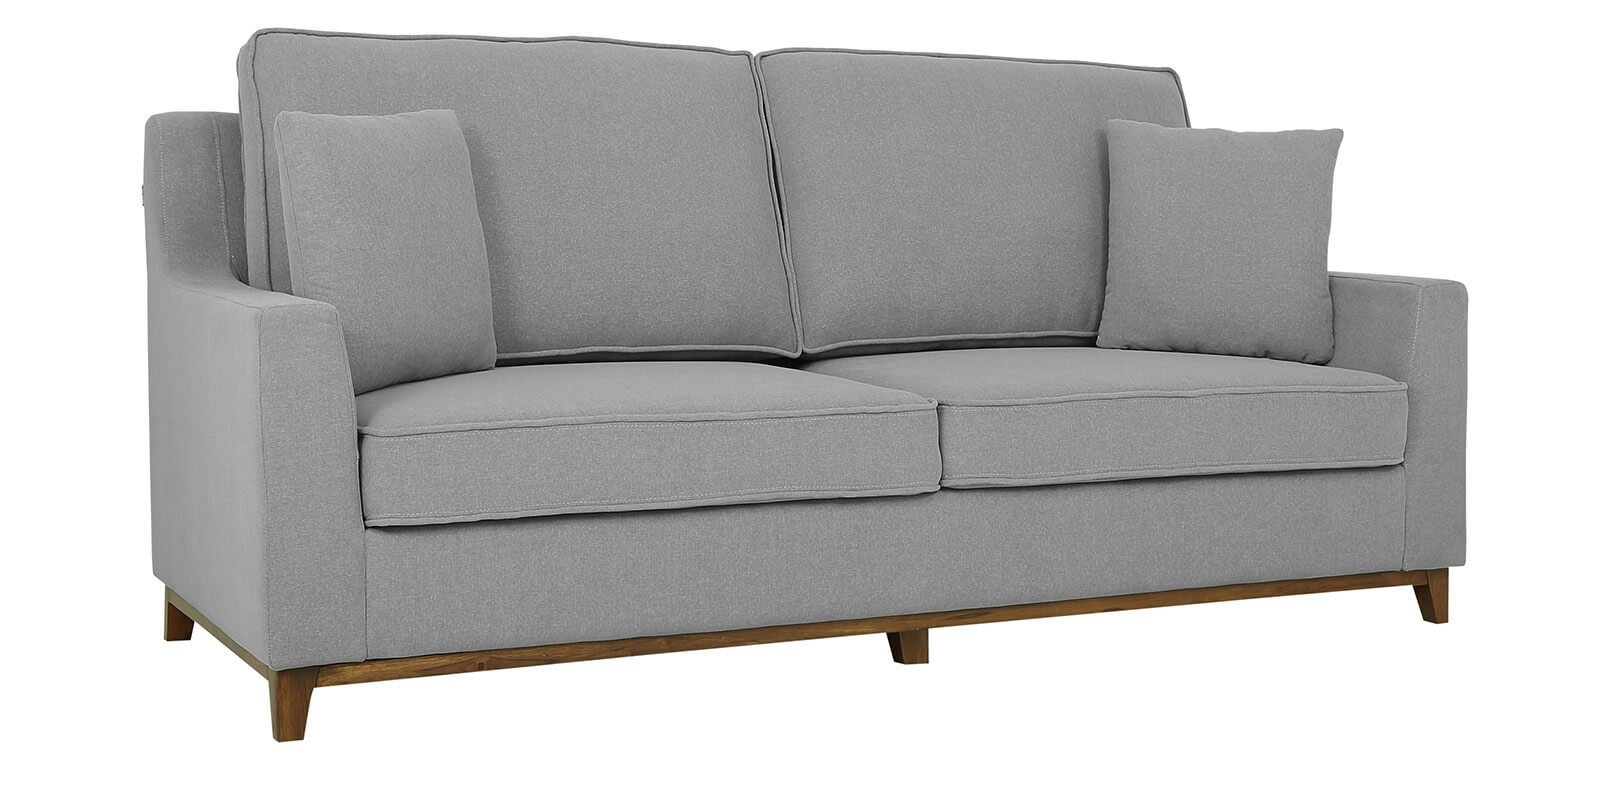Diego Three Seater Sofa in Ash Grey Colour by CasaCraft: (109, 21, 1495, 728)
